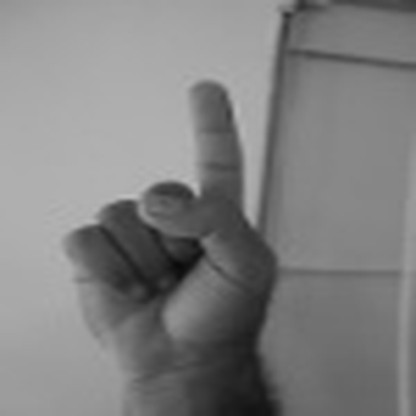d: (60, 76, 282, 360)
